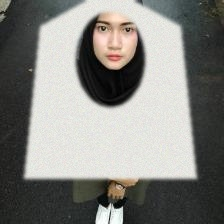Mukena: (24, 0, 196, 178)
